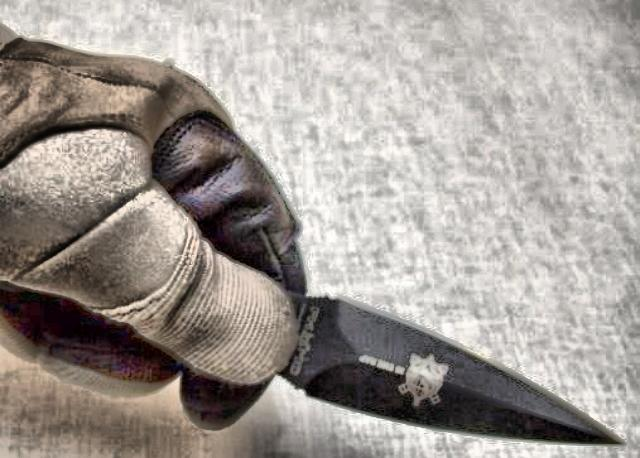knife: (224, 278, 626, 452)
